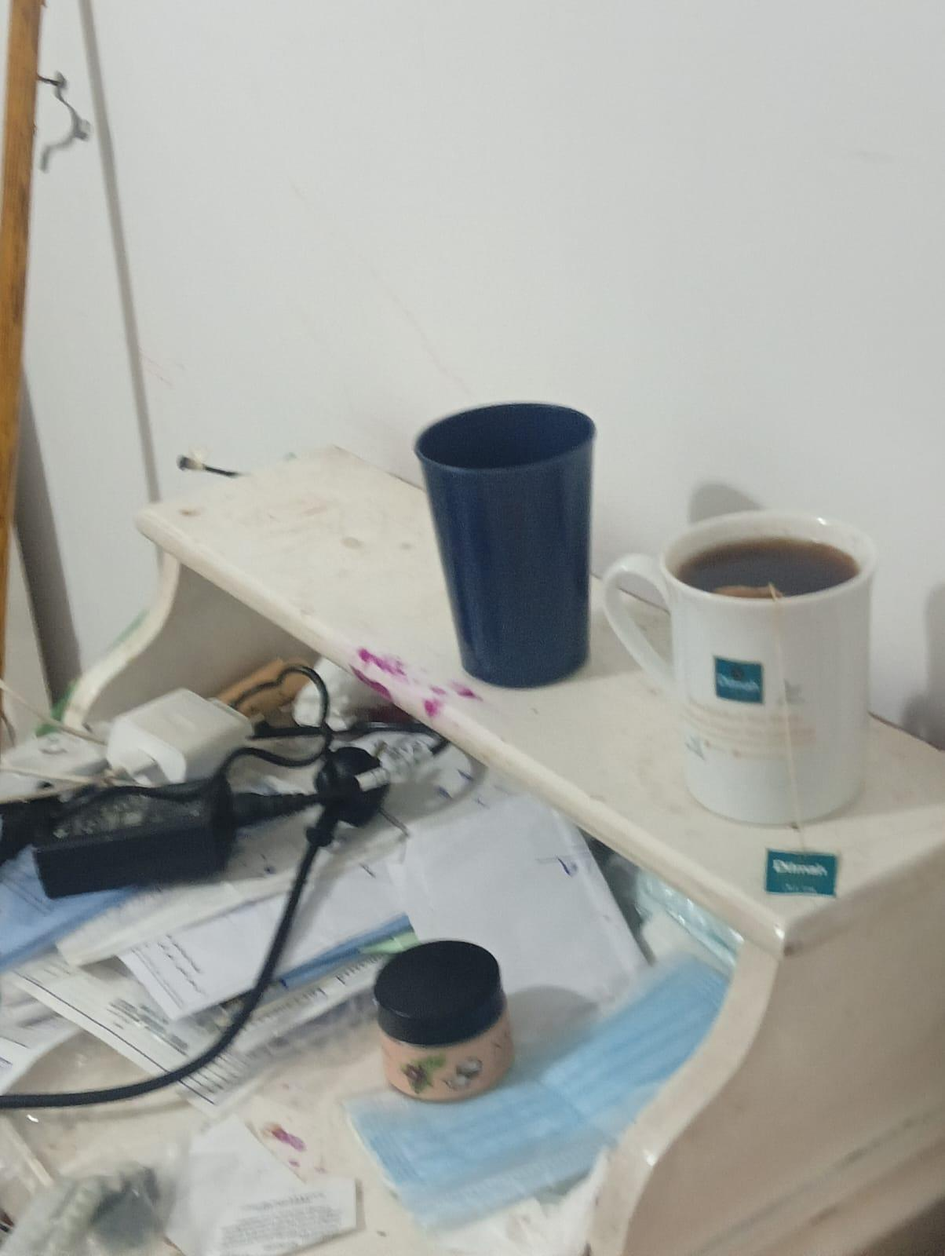cup: (604, 511, 875, 823), (415, 403, 594, 687)
